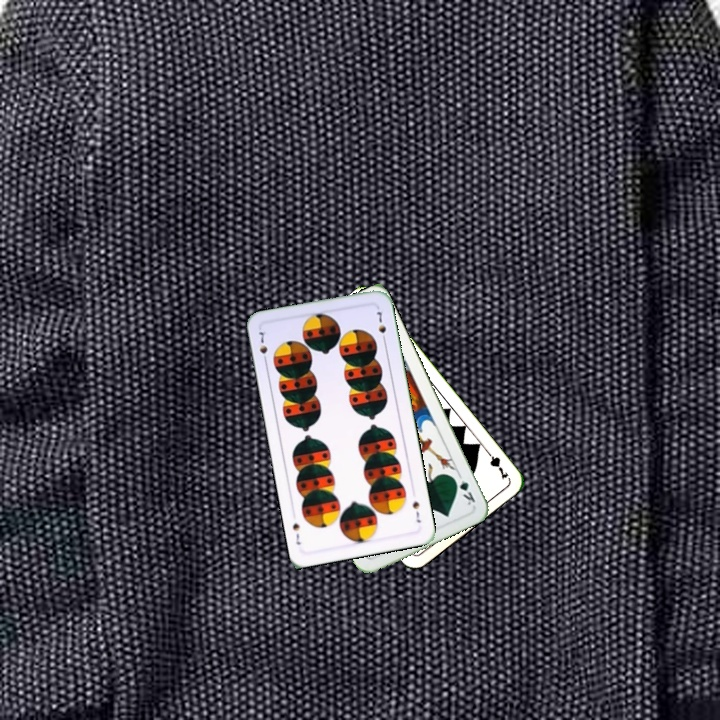G7: (481, 445, 511, 482)
GK: (449, 469, 478, 508)
S7: (254, 327, 270, 366), (408, 497, 424, 525)
